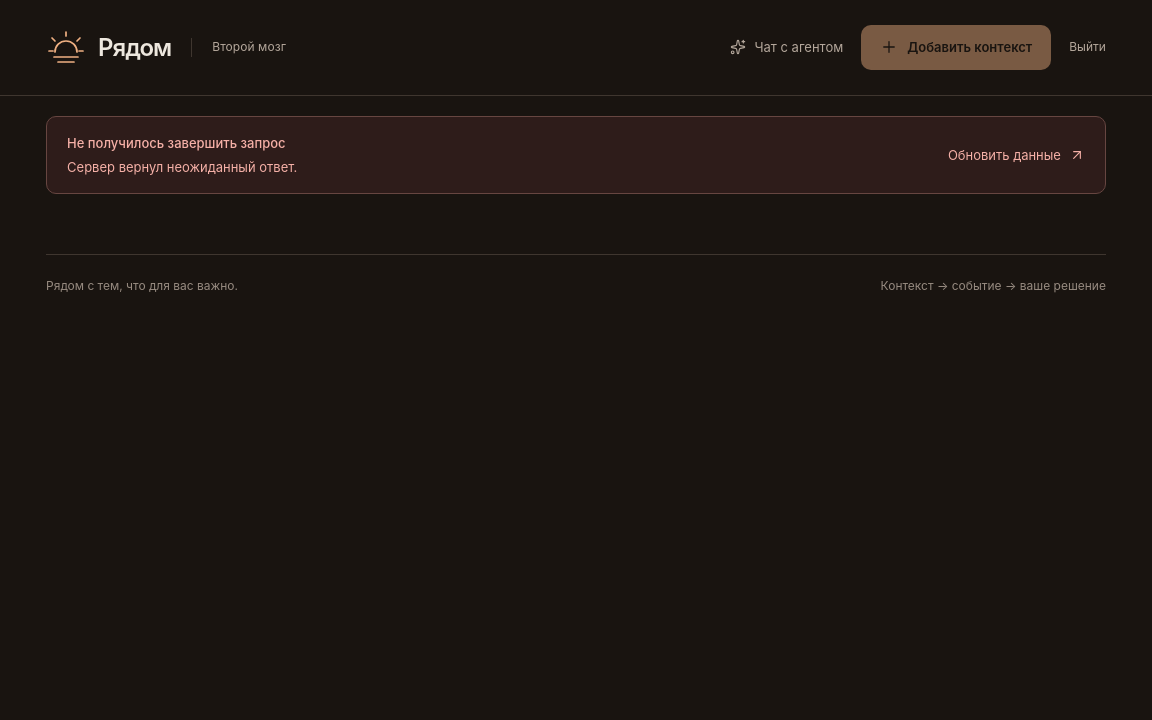
it: App › opens only context chat and preserves an unsent draft across the goals round trip
Click the button "Чат с агентом": [787, 48] box [730,26,843,70]
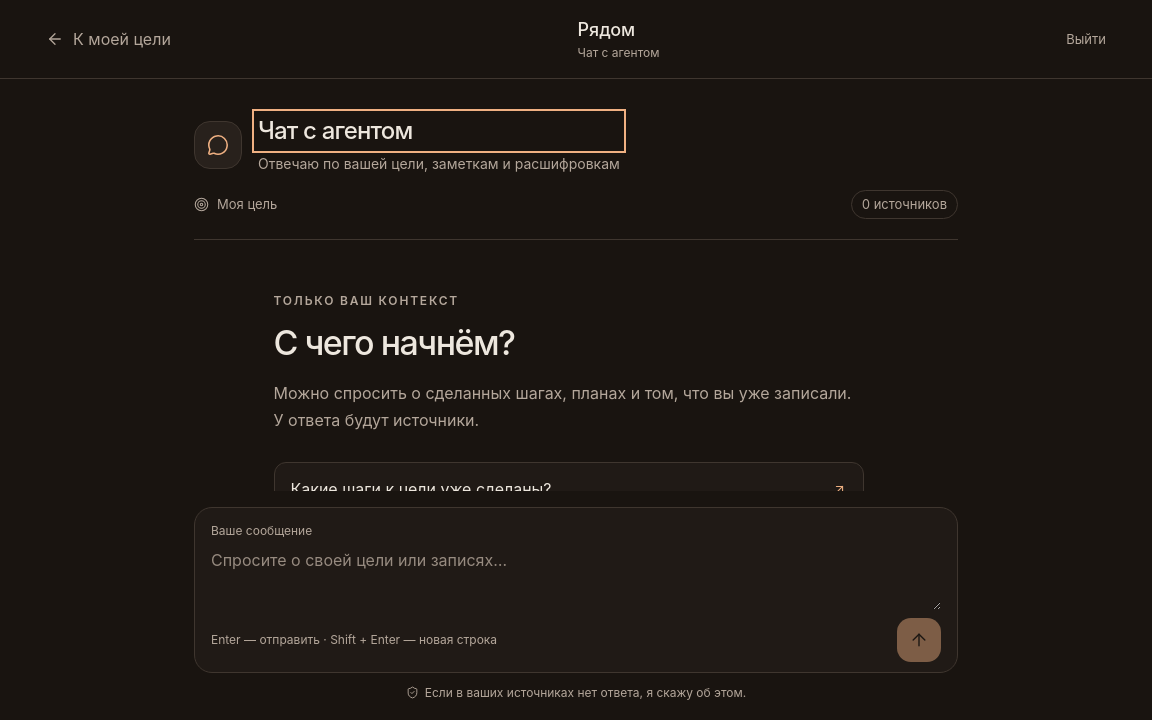
Expected: the heading "Чат с агентом" is shown, [258,116,412,146]
Expected: the text box labelled "Ваше сообщение" is enabled
In the text box labelled "Ваше сообщение": [576, 579] box [211,548,941,610], type "Мой неотправленный вопрос"
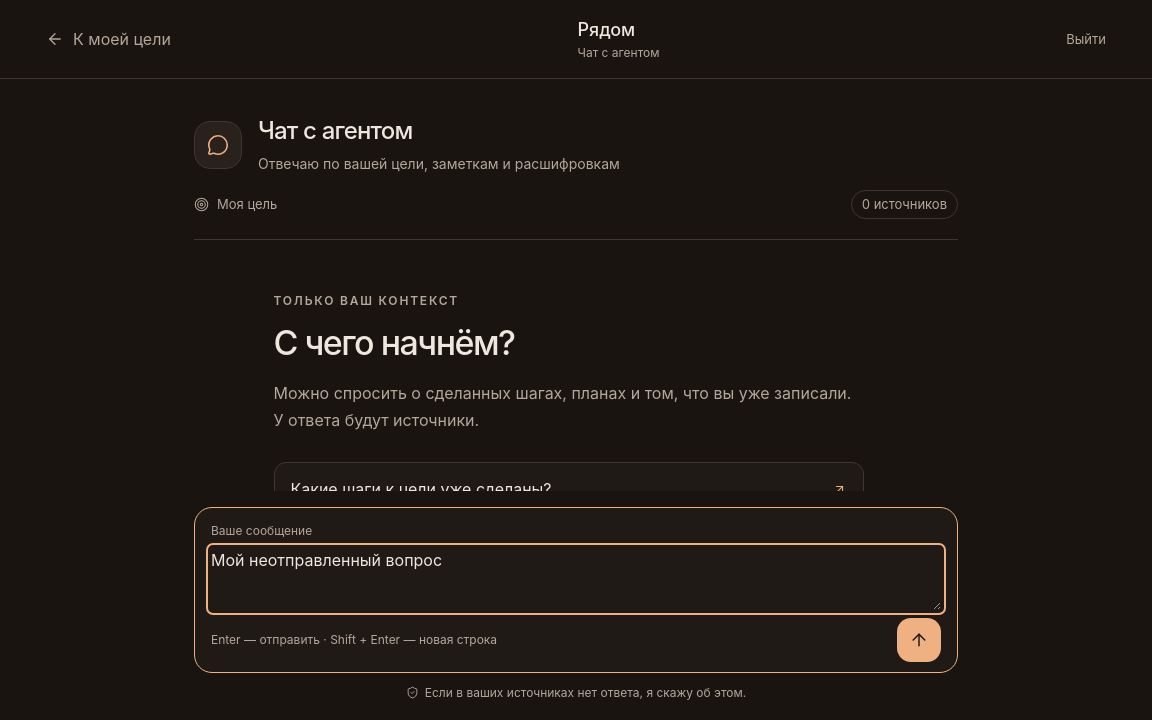
Click the button "К моей цели": [108, 39] box [46,17,171,61]
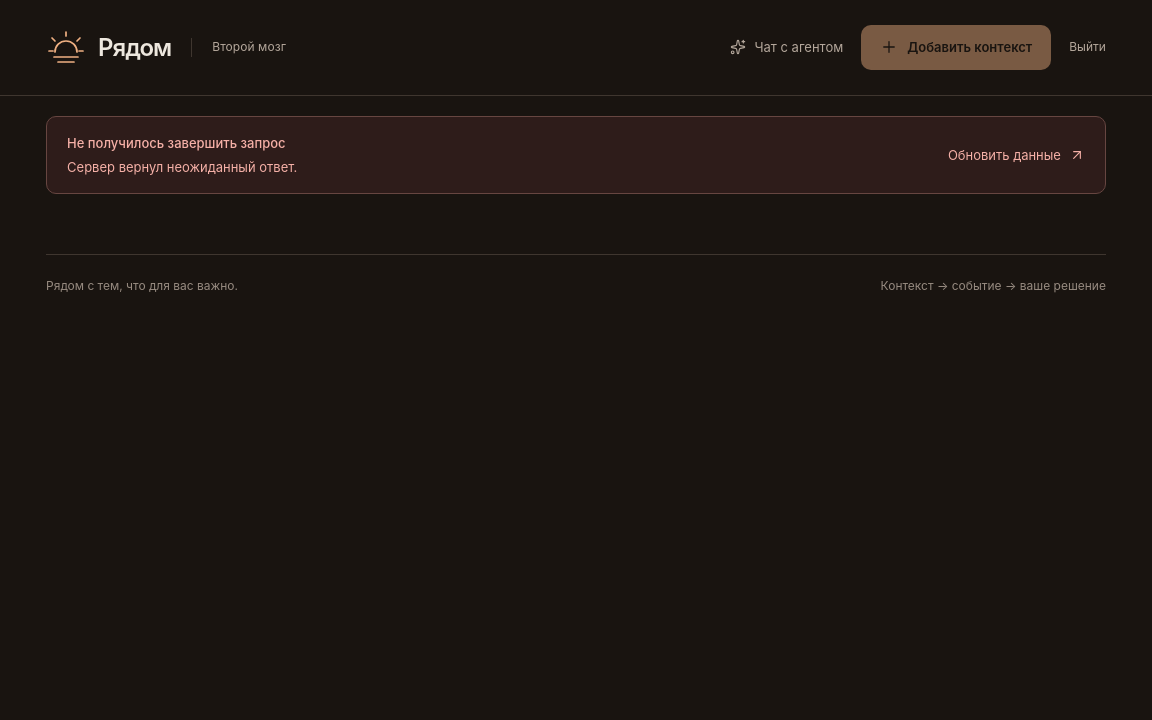
Click the button "Чат с агентом": [787, 48] box [730,26,843,70]
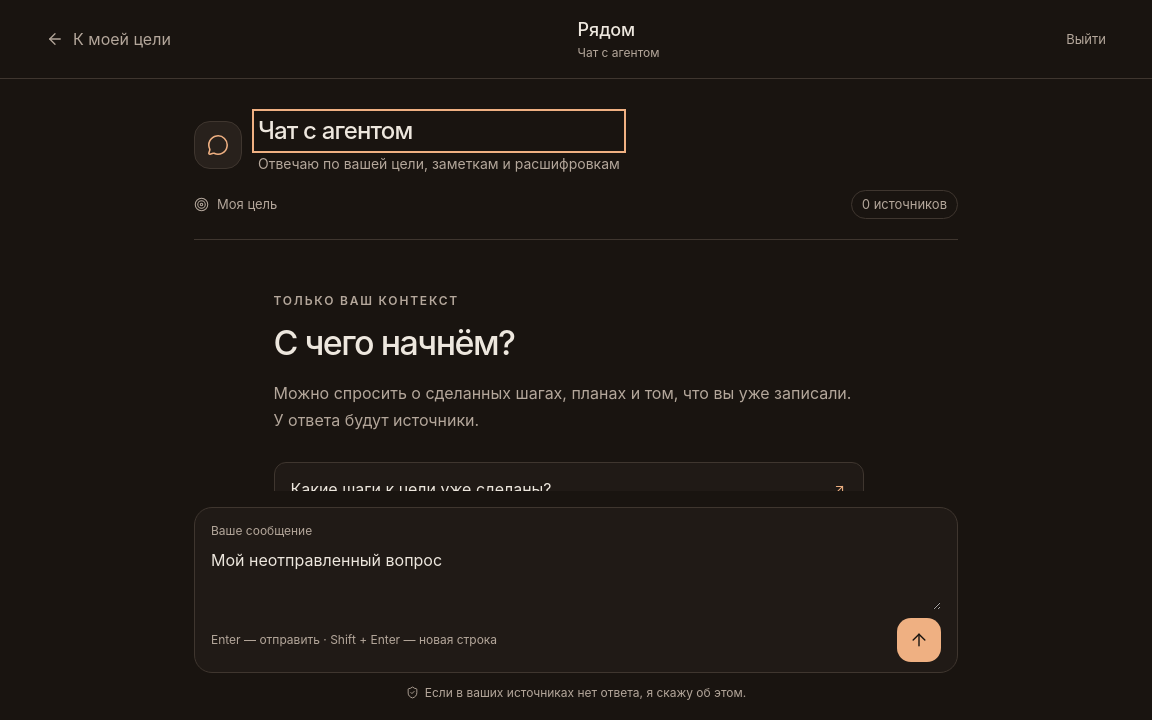
Expected: the text box holds "Мой неотправленный вопрос", [211,548,941,610]
